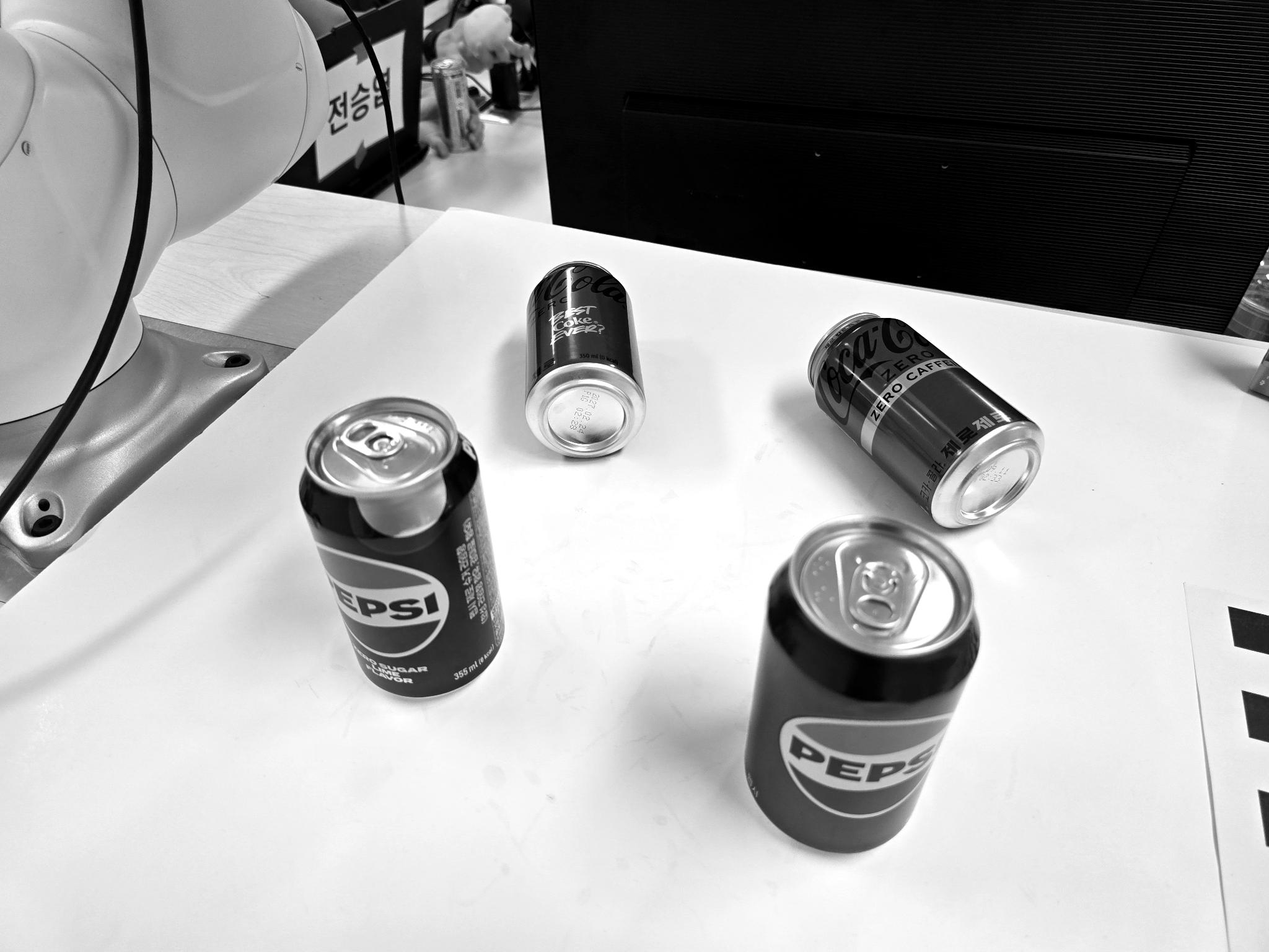can_coke_decaf: (808, 313, 1043, 527)
can_coke_zero: (525, 261, 645, 457)
can_pepsi: (744, 516, 980, 852)
can_pepsi_zero: (299, 397, 504, 697)
